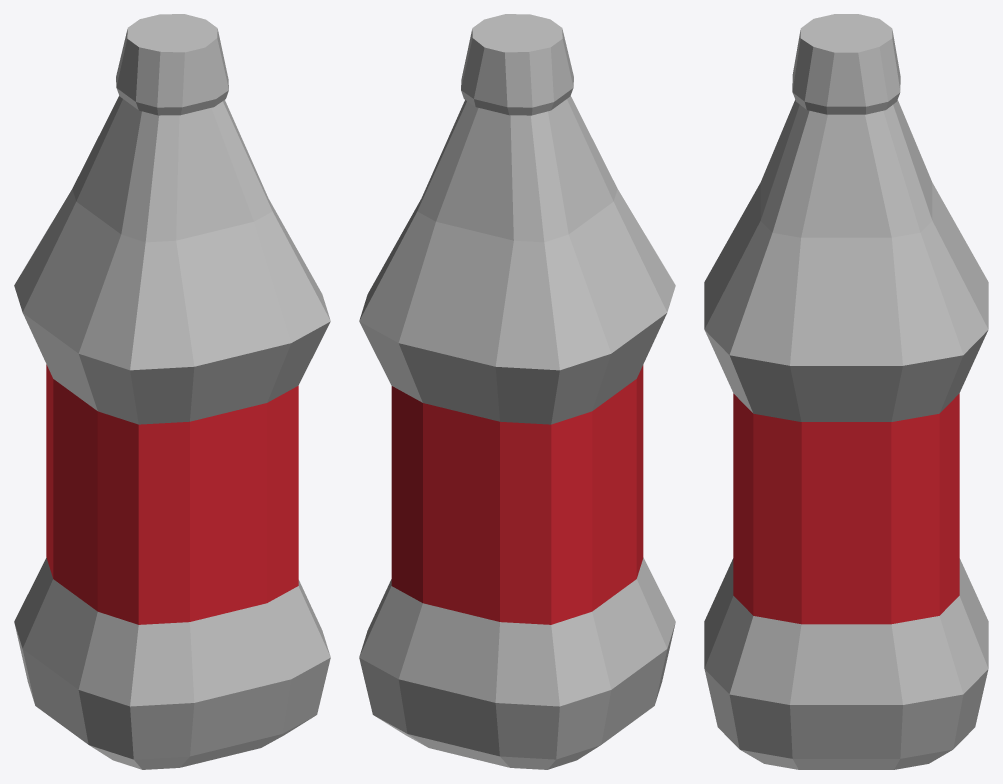
Rendered from Bottle_1.fbx.
3 renders of one model, left to right at view 1: azimuth 30°, elevation 25°; view 2: azimuth 150°, elevation 25°; view 3: azimuth 270°, elevation 25°, orthographic.
Visible parts, largest first — view 1: Bottle_1; view 2: Bottle_1; view 3: Bottle_1.
Part boxes in pixels (left/top/right/bottom): Bottle_1: left=14, top=14, right=330, bottom=769; Bottle_1: left=359, top=14, right=675, bottom=769; Bottle_1: left=704, top=14, right=988, bottom=769.
Bounding box in the file's own units: 0.1932 × 0.1932 × 0.5226.
